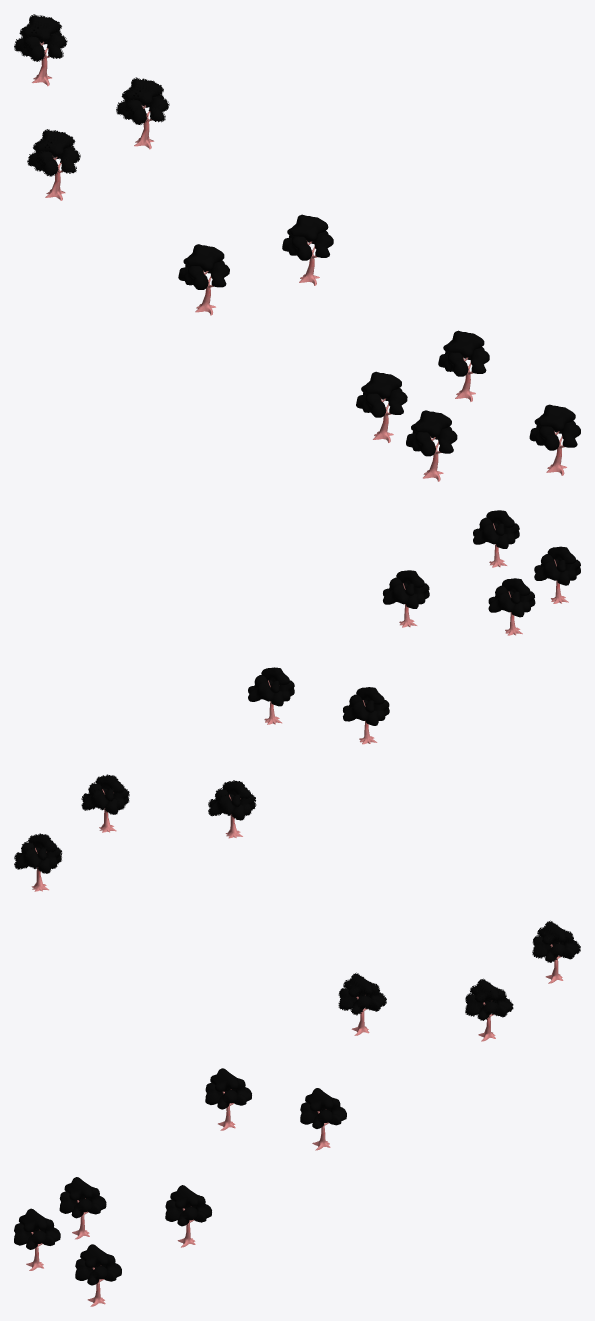
The model's file is SM_ENV_LKNVLD_TreeGroup_A.gltf.
3 views of the same model, one above another, from view 1: azimuth 30°, elevation 25°; view 2: azimuth 150°, elevation 25°; view 3: azimuth 330°, elevation 25° (orthographic). The views are drawn at different scales.
Visible parts, largest first — view 1: SM_ENV_LKNVLD_TreeGroup_A; view 2: SM_ENV_LKNVLD_TreeGroup_A; view 3: SM_ENV_LKNVLD_TreeGroup_A.
Boxes of the visible parts, <box> form: SM_ENV_LKNVLD_TreeGroup_A: <box>14,14,580,481</box>; SM_ENV_LKNVLD_TreeGroup_A: <box>14,510,580,891</box>; SM_ENV_LKNVLD_TreeGroup_A: <box>14,920,580,1306</box>.
Bounding box in the file's own units: 36.65 × 14.05 × 208.
